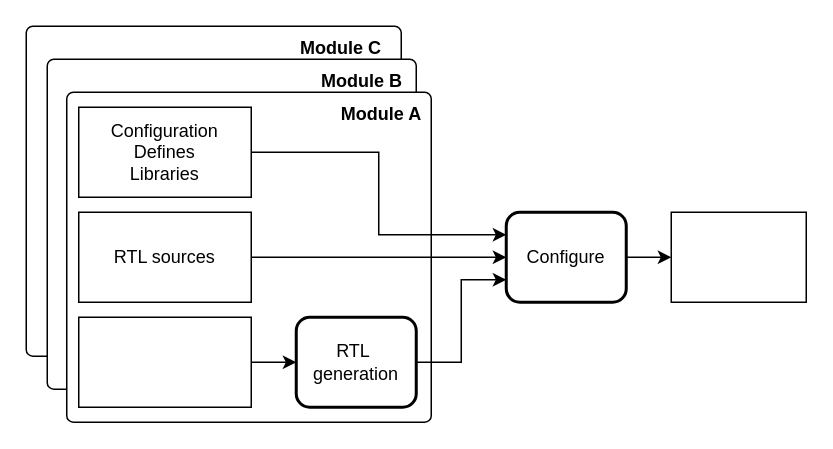
Some shapes in this 833 by 449 pixel diagram are drawn without their labels. The box of each missing label's shape, as (x1, y1, x2, y2) in pixels:
Design representation: (670, 211, 806, 302)
RTL generators and template sources: (77, 316, 251, 407)
